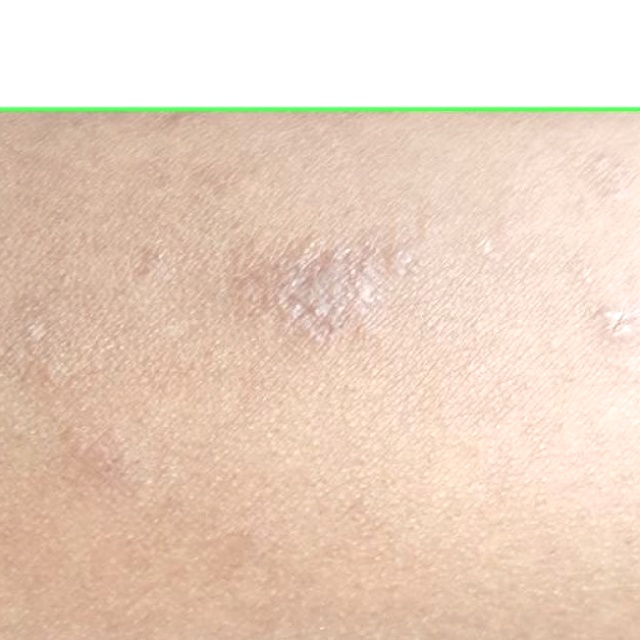Scabies: (0, 0, 639, 109)
